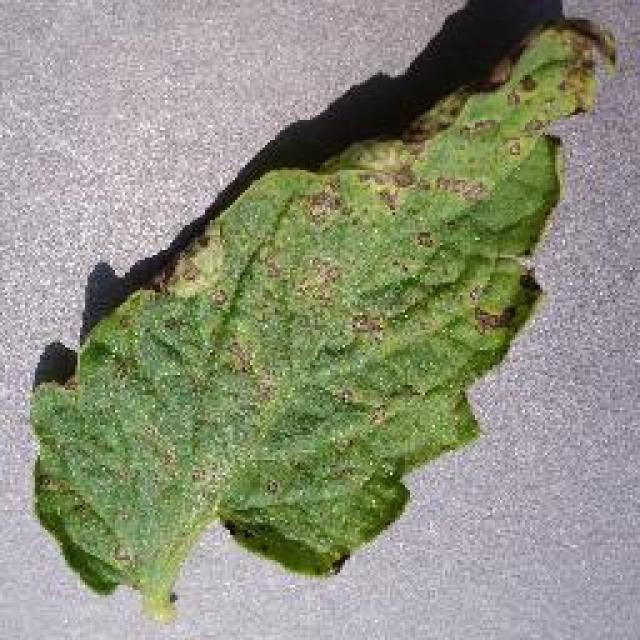Tomato___Septoria_leaf_spot: (30, 22, 598, 612)
